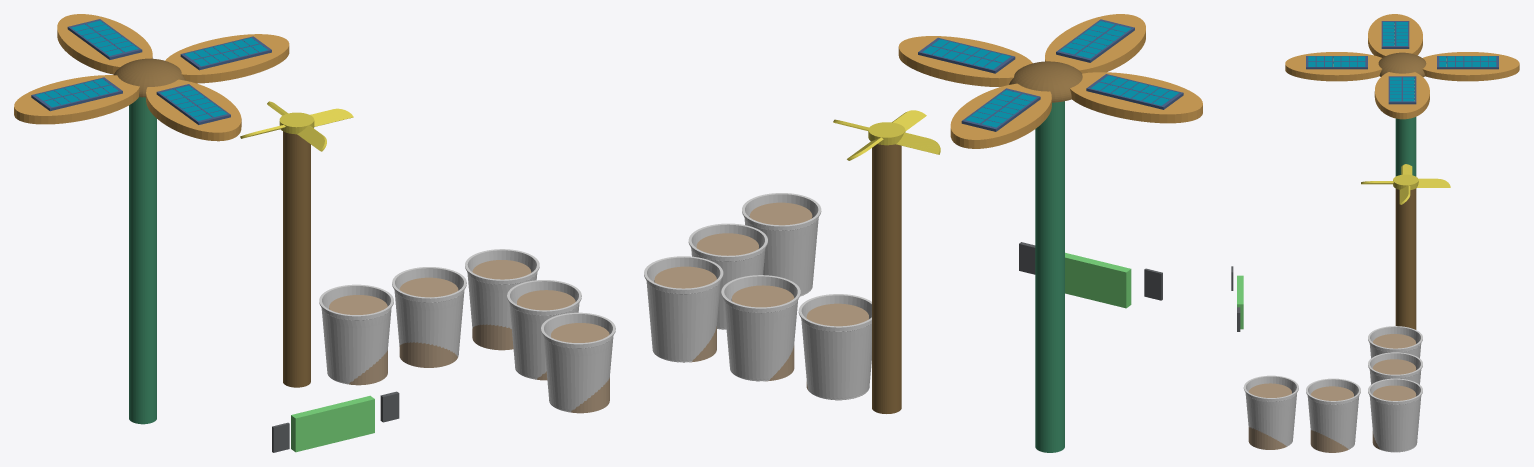
Rendered from model_voltrabloom.glb.
3 renders of one model, left to right at view 1: azimuth 30°, elevation 25°; view 2: azimuth 150°, elevation 25°; view 3: azimuth 270°, elevation 25°, orthographic. The views are drawn at different scales.
Parts seen in each view (by area): view 1: Mesh_Mesh_head_geo.001_lambert2SG.001; view 2: Mesh_Mesh_head_geo.001_lambert2SG.001; view 3: Mesh_Mesh_head_geo.001_lambert2SG.001.
Part boxes in pixels (box(x1,y1,x2,y2)): Mesh_Mesh_head_geo.001_lambert2SG.001: box(14, 14, 615, 452); Mesh_Mesh_head_geo.001_lambert2SG.001: box(644, 14, 1202, 452); Mesh_Mesh_head_geo.001_lambert2SG.001: box(1231, 14, 1519, 452).
Size of the model in its own units: 0.064 by 0.0419 by 0.0418.
